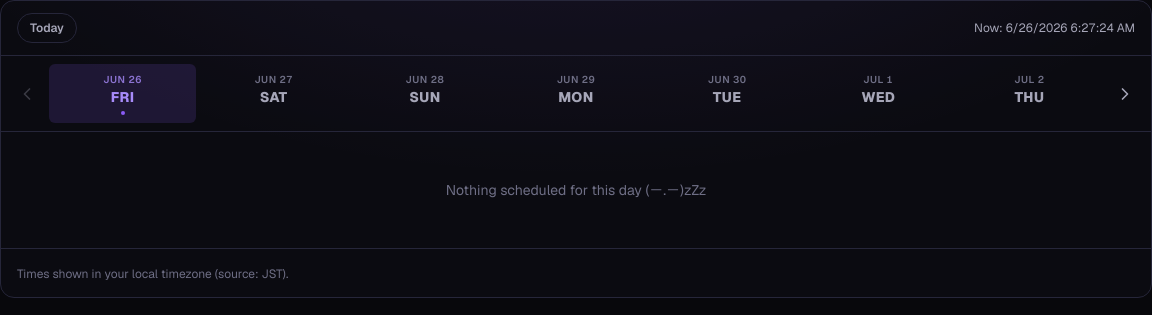
Scenario: ScheduleGrid (timeline) — timezone conversion › converts JST 17:00 to 08:00 UTC and renders a local time
Click the button with test id "schedule-day-tab": (274, 94) x1=200 y1=64 x2=347 y2=123
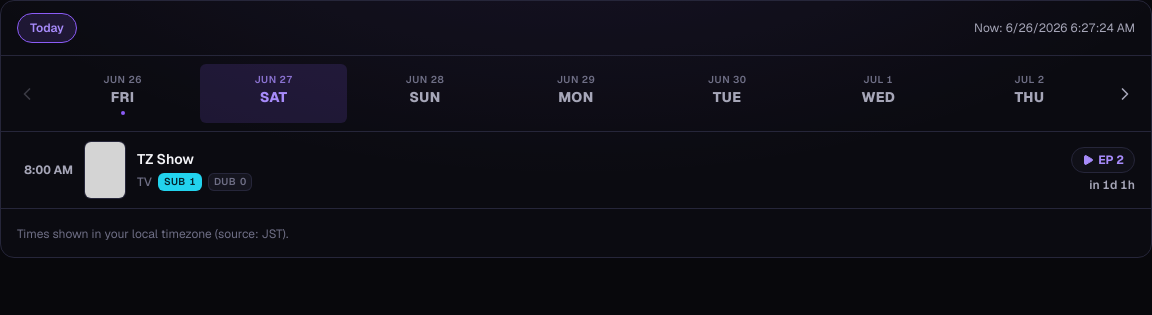
Expected: the text "8:00 AM" is shown, x1=17 y1=162 x2=73 y2=178
